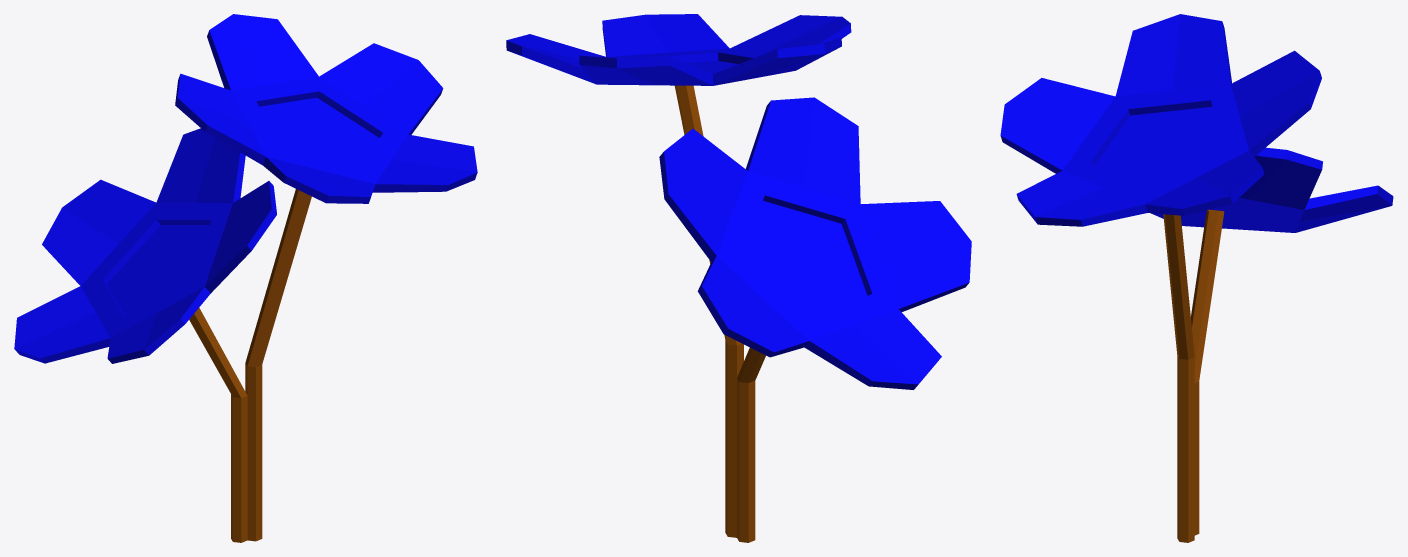
The model's file is flowerblue.glb.
The picture shows the model from 3 angles, left to right: view 1: azimuth 30°, elevation 25°; view 2: azimuth 150°, elevation 25°; view 3: azimuth 270°, elevation 25°; orthographic projection. The views are drawn at different scales.
Parts seen in each view (by area): view 1: Cylinder.015; view 2: Cylinder.015; view 3: Cylinder.015.
Part boxes in pixels (box(x1,y1,x2,y2)): Cylinder.015: box(14, 14, 477, 542); Cylinder.015: box(506, 14, 971, 542); Cylinder.015: box(1000, 14, 1393, 542).
Bounding box in the file's own units: 0.7099 × 0.8137 × 0.5887.
